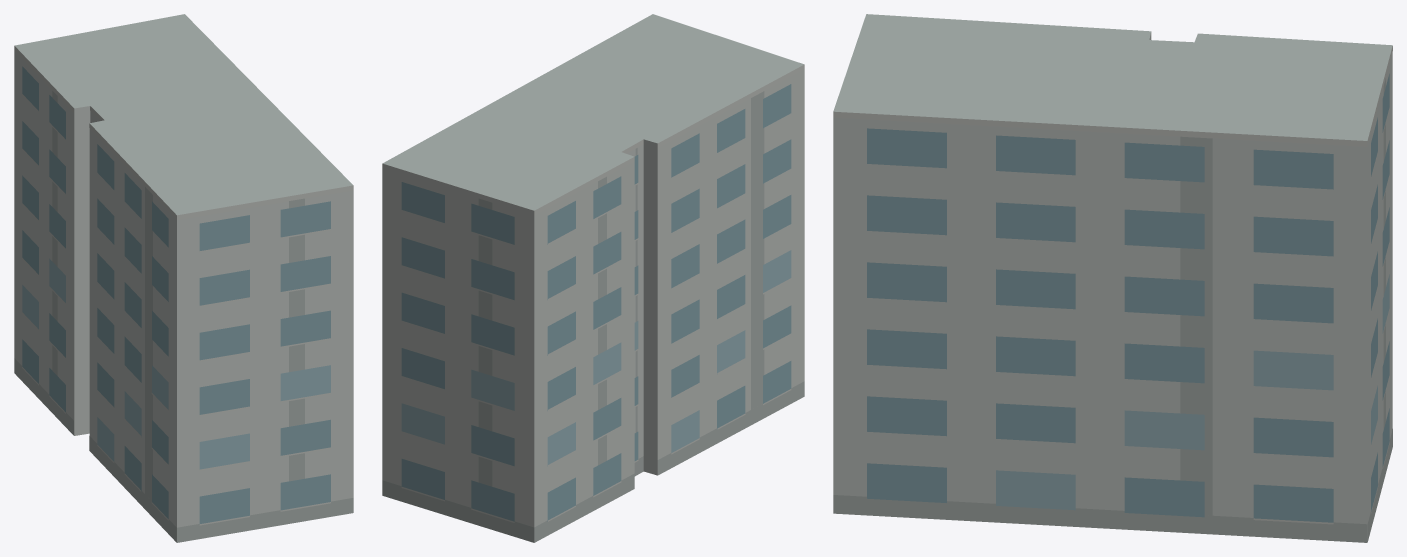
Rendered from survey-upis-32567670.glb.
The picture shows the model from 3 angles, left to right: view 1: azimuth 30°, elevation 25°; view 2: azimuth 150°, elevation 25°; view 3: azimuth 270°, elevation 25°; orthographic projection. The views are drawn at different scales.
Parts seen in each view (by area): view 1: survey-upis-32567670.tmp; view 2: survey-upis-32567670.tmp; view 3: survey-upis-32567670.tmp.
Part boxes in pixels (bbox=[...]): survey-upis-32567670.tmp: bbox=[14, 14, 353, 542]; survey-upis-32567670.tmp: bbox=[382, 14, 804, 542]; survey-upis-32567670.tmp: bbox=[833, 14, 1392, 542].
Bounding box in the file's own units: 11.16 × 16.45 × 20.77.
